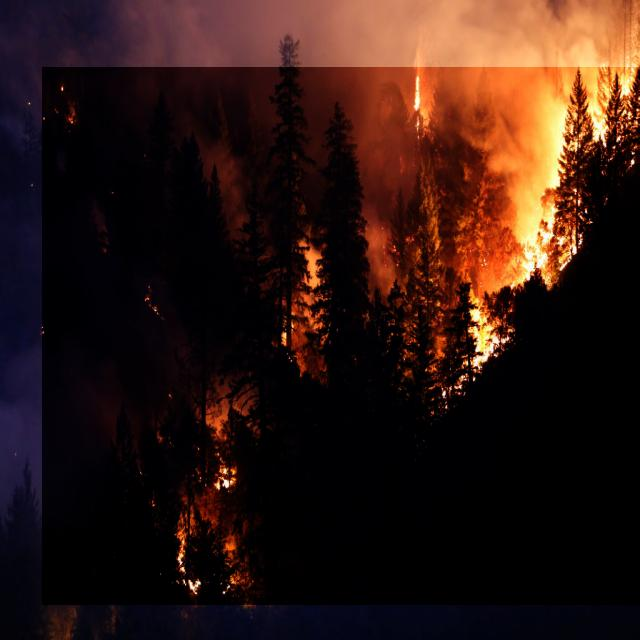Fire: (42, 67, 640, 605)
